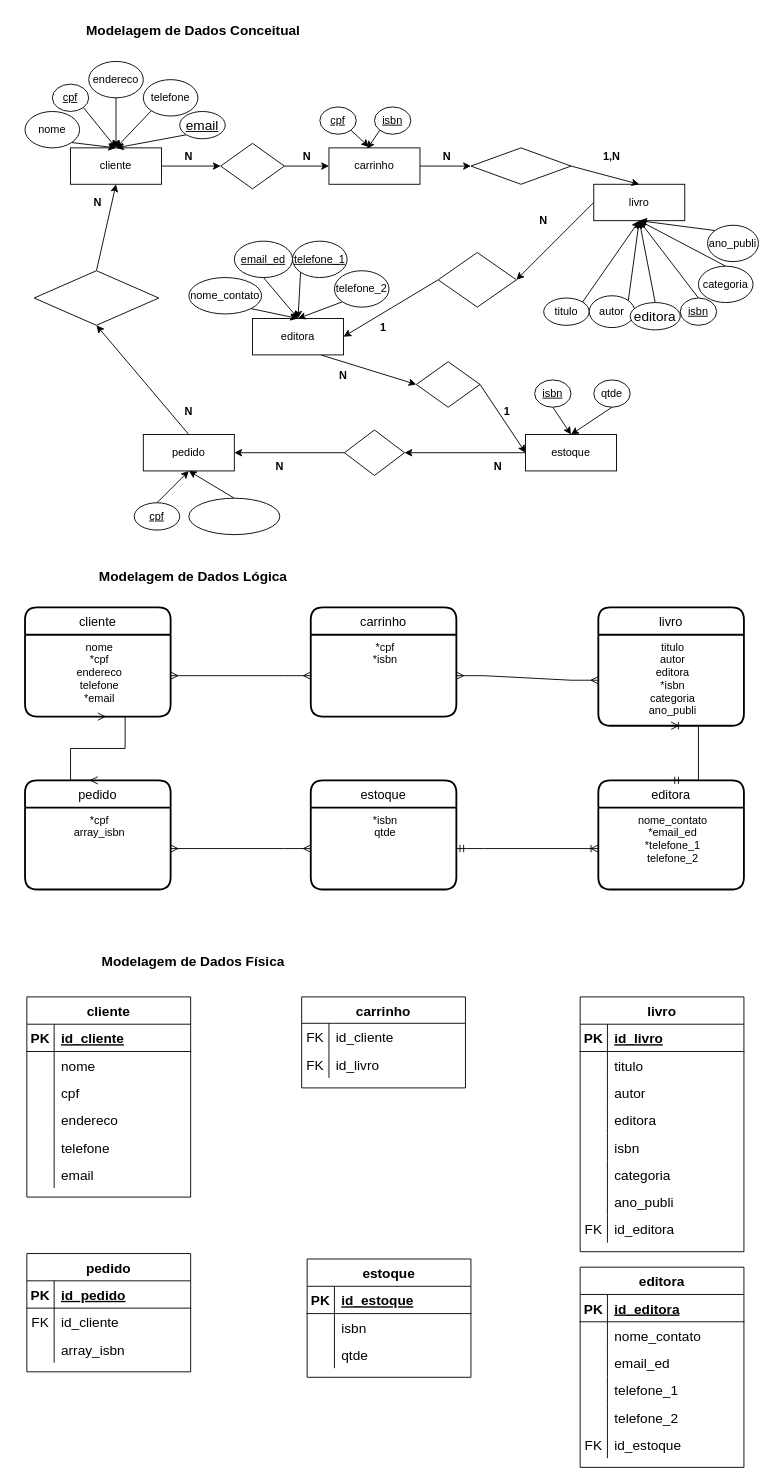
This 774x1483 diagram has some shape labels left out. The shapes that lost their labels are listed below. From the top down, each one's box as (x1, y1, x2, y2) in pixels, then its label:
(220, 142, 284, 189): adiciona livros
(470, 147, 571, 184): pega os dados
(33, 270, 159, 325): enviado ou historico
(437, 252, 516, 307): é publicado
(415, 361, 480, 407): confere
(344, 429, 404, 475): adiciona
(188, 497, 280, 535): {isbn, isbn,...}
